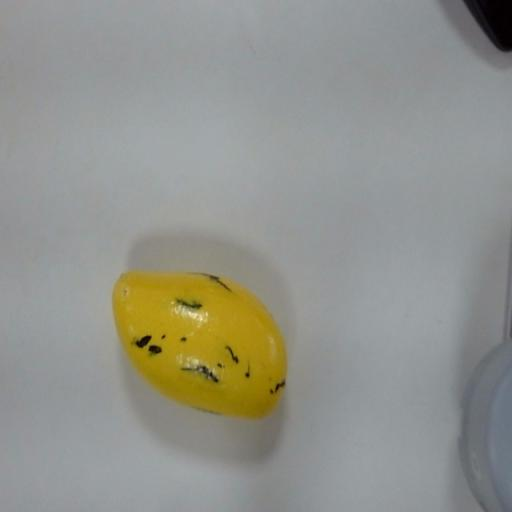Defective: (104, 243, 301, 447)
